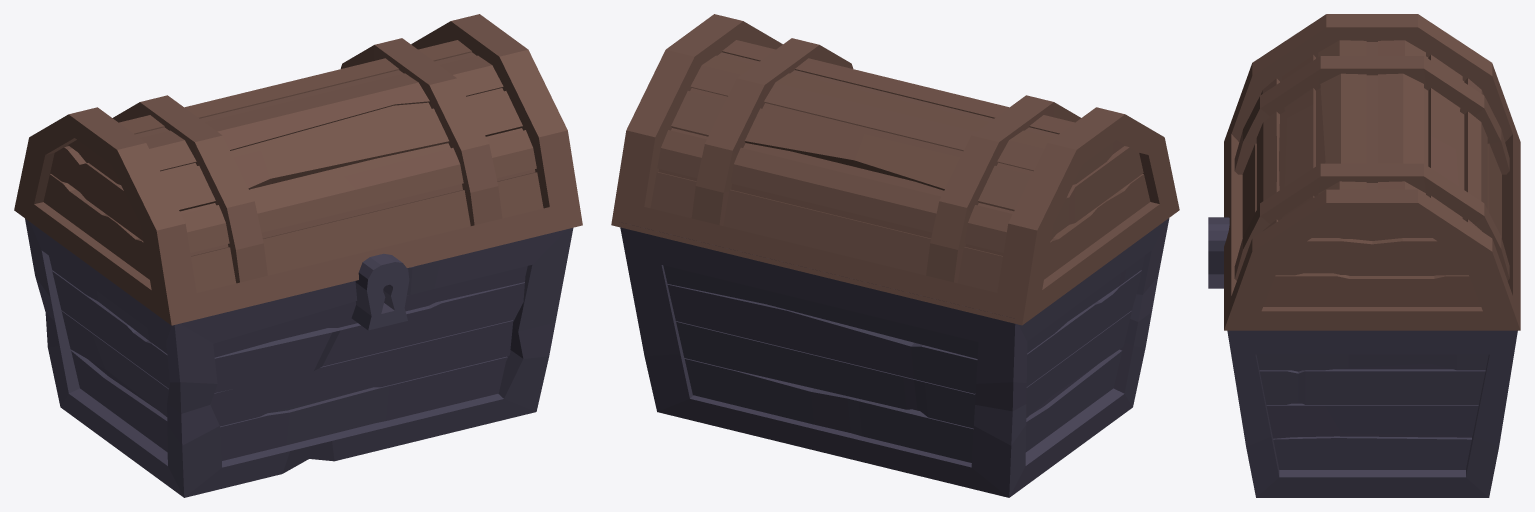
The model's file is cofre.glb.
3 views of the same model, side by side, from view 1: azimuth 30°, elevation 25°; view 2: azimuth 150°, elevation 25°; view 3: azimuth 270°, elevation 25° (orthographic). The views are drawn at different scales.
Parts seen in each view (by area): view 1: Chest_Top_Cylinder.007, Chest_Base_Cube; view 2: Chest_Top_Cylinder.007, Chest_Base_Cube; view 3: Chest_Top_Cylinder.007, Chest_Base_Cube.
Part boxes in pixels (x1,y1,x2,y2): Chest_Top_Cylinder.007: (14,14,582,325); Chest_Base_Cube: (25,218,573,497); Chest_Top_Cylinder.007: (611,14,1179,325); Chest_Base_Cube: (620,218,1169,497); Chest_Top_Cylinder.007: (1224,14,1520,330); Chest_Base_Cube: (1208,217,1517,497).
Bounding box in the file's own units: 1.18 × 0.8985 × 0.8238.
